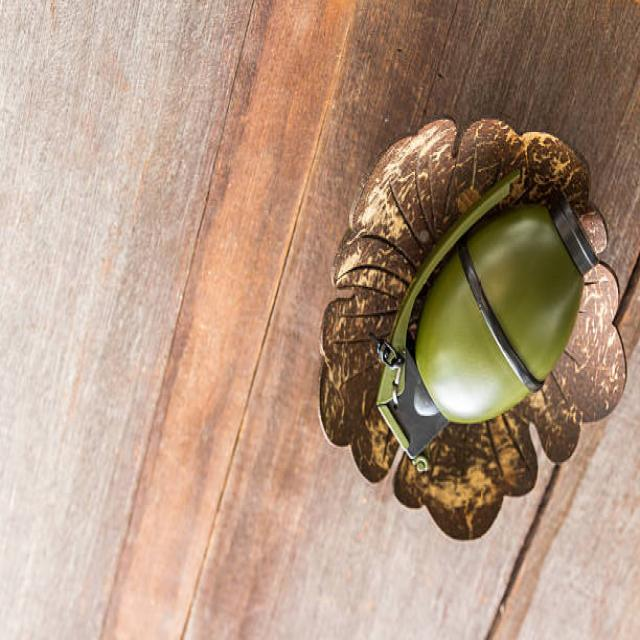grenade: (368, 170, 603, 479)
